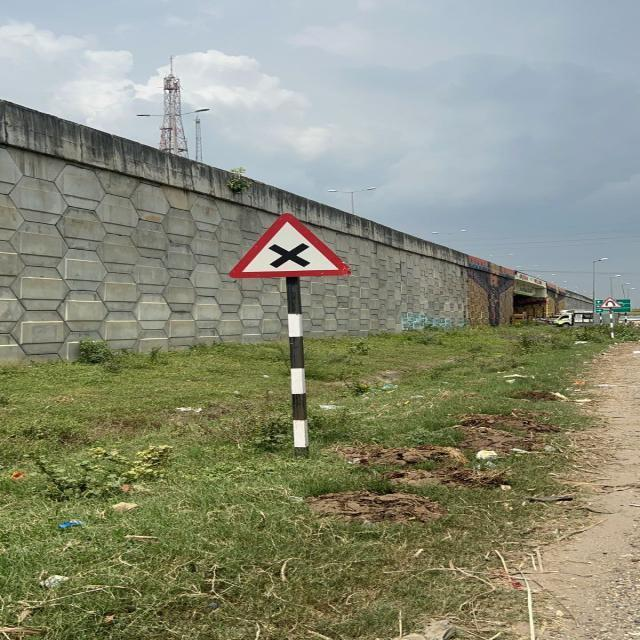cross road: (228, 211, 353, 283)
